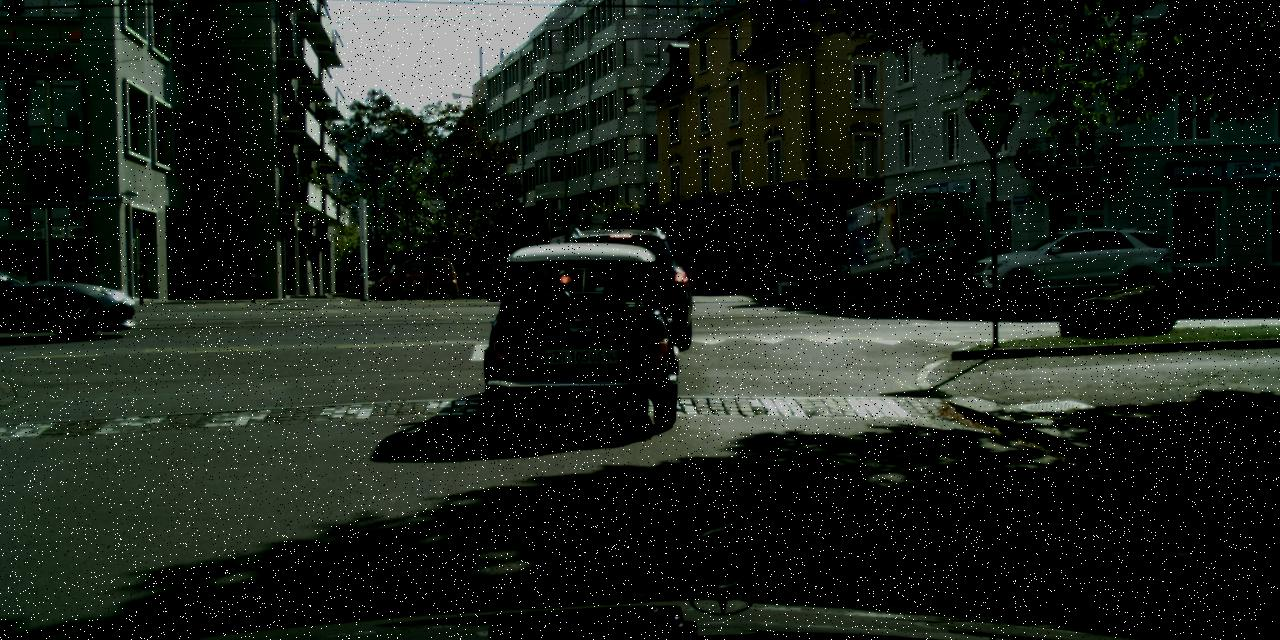ped: (893, 239, 913, 289)
